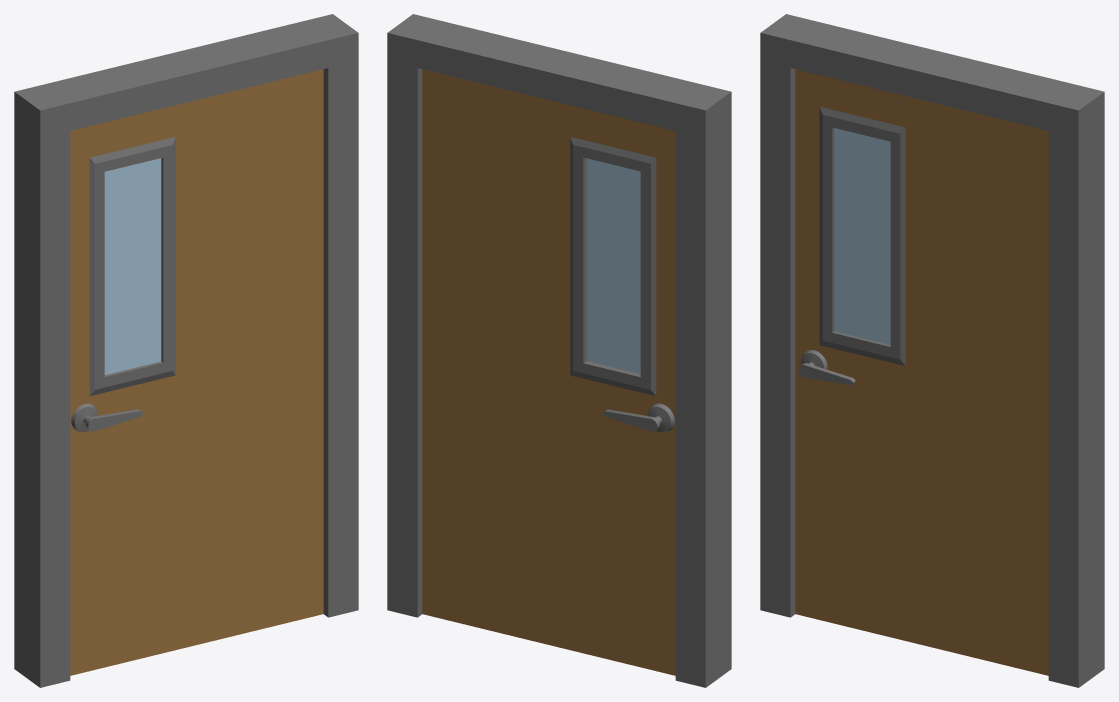
File: door.fbx
The picture shows the model from 3 angles, left to right: view 1: azimuth 30°, elevation 25°; view 2: azimuth 150°, elevation 25°; view 3: azimuth 330°, elevation 25°; orthographic projection.
Parts seen in each view (by area): view 1: Door, Door Frame; view 2: Door, Door Frame; view 3: Door, Door Frame.
Part boxes in pixels (x1,y1,x2,y2): Door: [70, 69, 323, 675]; Door Frame: [14, 14, 358, 687]; Door: [422, 69, 675, 675]; Door Frame: [387, 14, 731, 687]; Door: [795, 69, 1048, 675]; Door Frame: [760, 14, 1104, 687].
Bounding box in the file's own units: 143 × 28.1 × 247.
